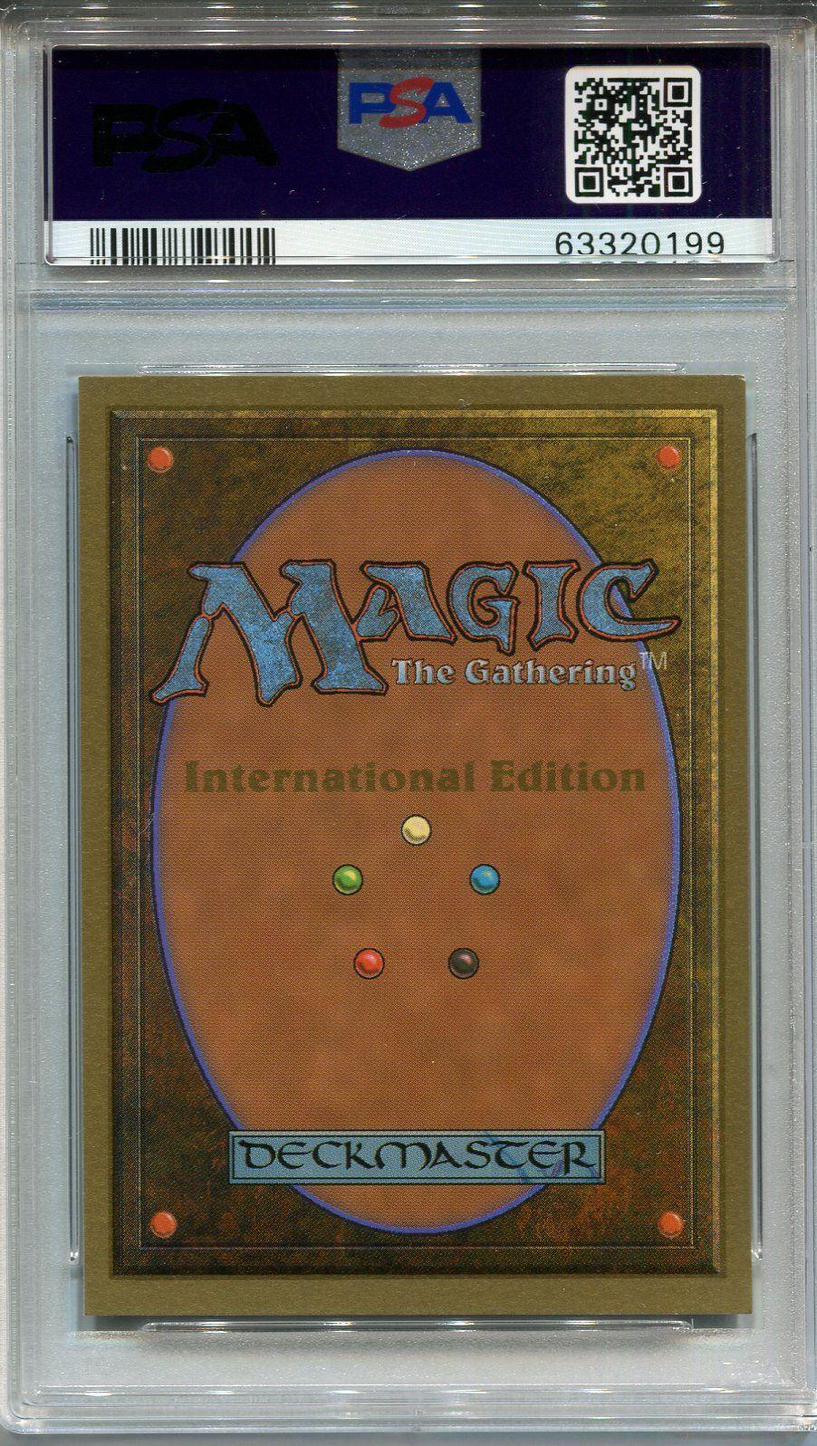card-2UtV: (78, 374, 753, 1317)
